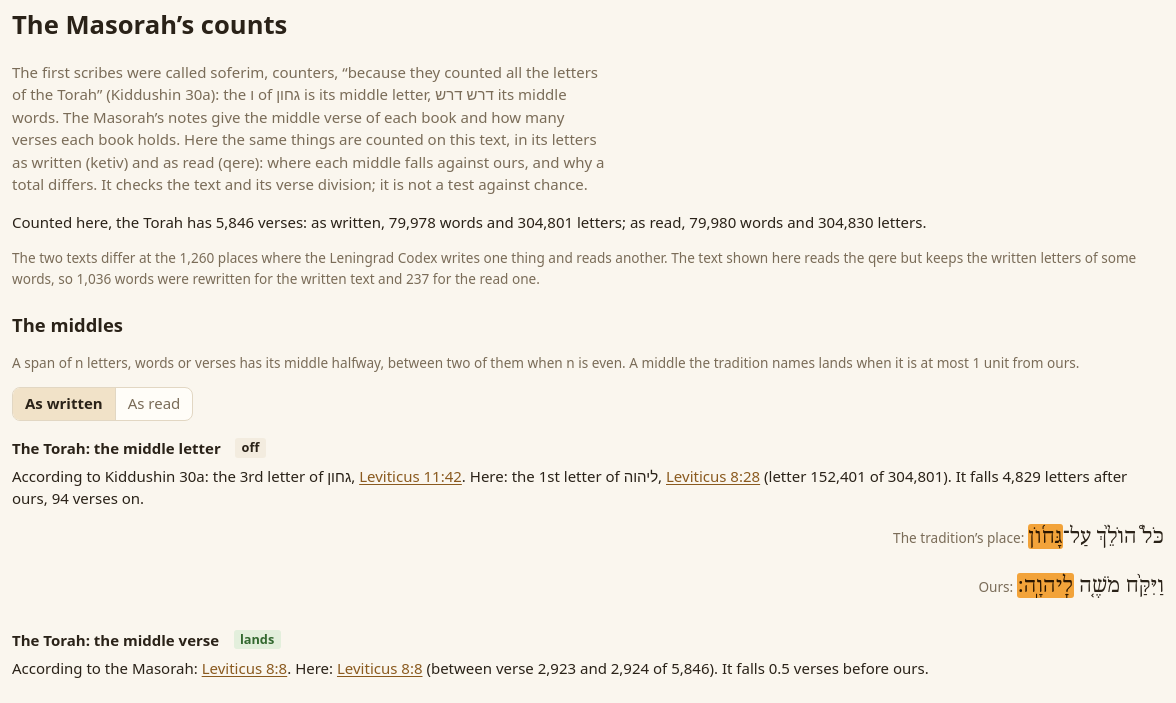
MasorahPage › switches to the letters as read
What coordinates should you click on to do the following:
click the radio button labelled "As read"
I would click on:
 (154, 404)
Its box is [115,388,192,420].
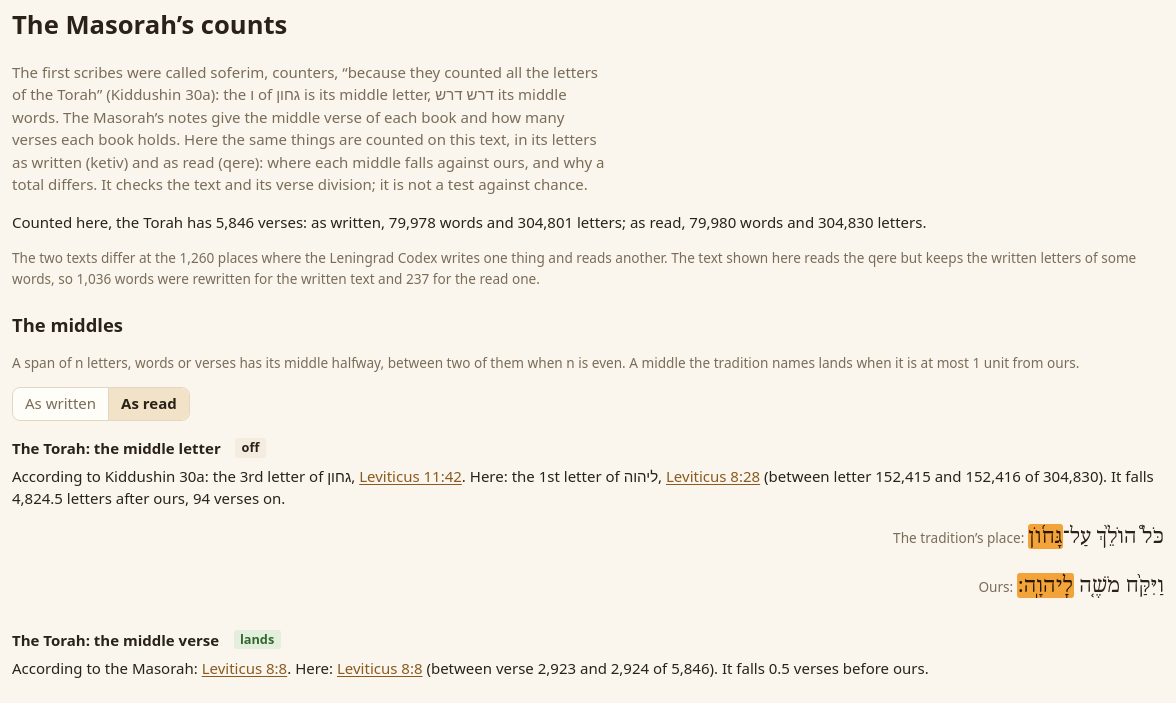
Expected: the list item with class "msr-middle" shows "It falls 4,824.5 letters after ours", [12,466,1154,508]
